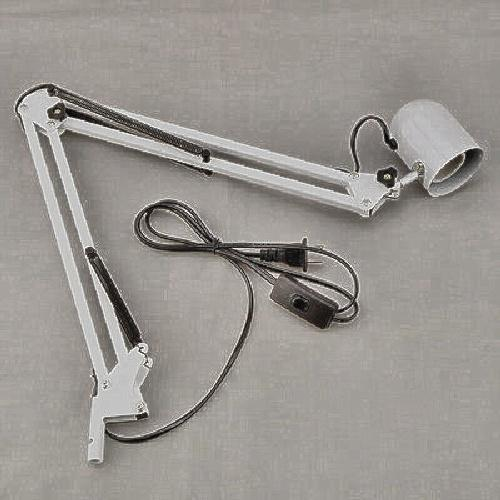lamp: (21, 66, 483, 443)
